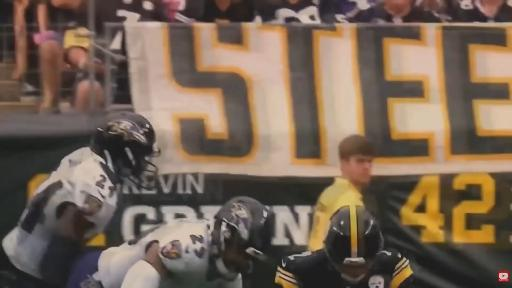Helmet: (90, 112, 159, 189), (211, 197, 273, 279), (324, 205, 383, 282)
Jersey: (2, 148, 118, 278), (97, 219, 241, 287), (275, 250, 412, 287)
Player: (2, 113, 158, 287), (67, 197, 273, 287), (275, 206, 412, 287)
